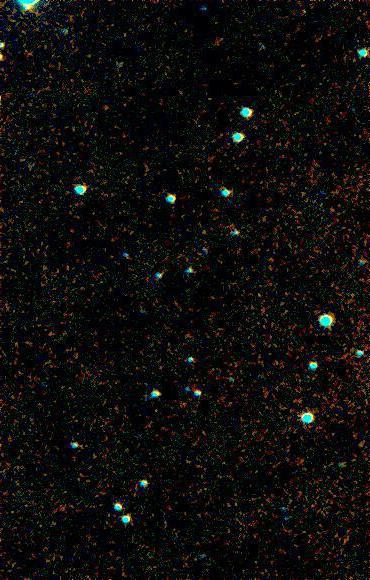star: (15, 0, 45, 20)
